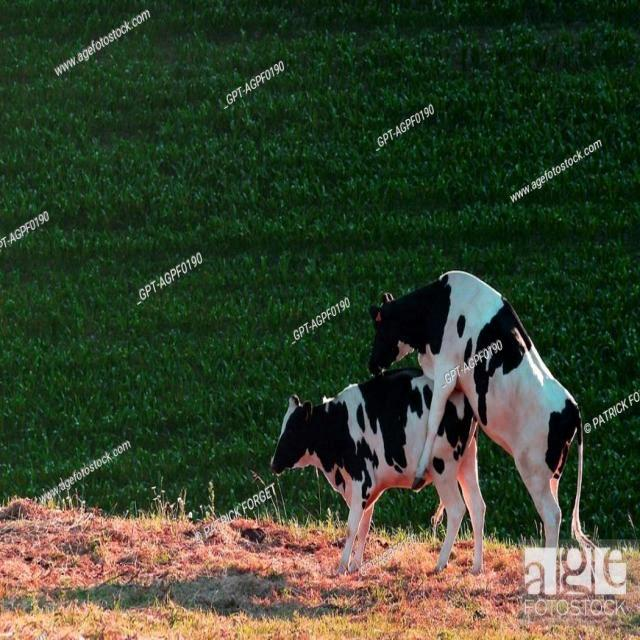cow: (369, 271, 590, 546), (271, 370, 431, 572), (430, 391, 485, 572)
